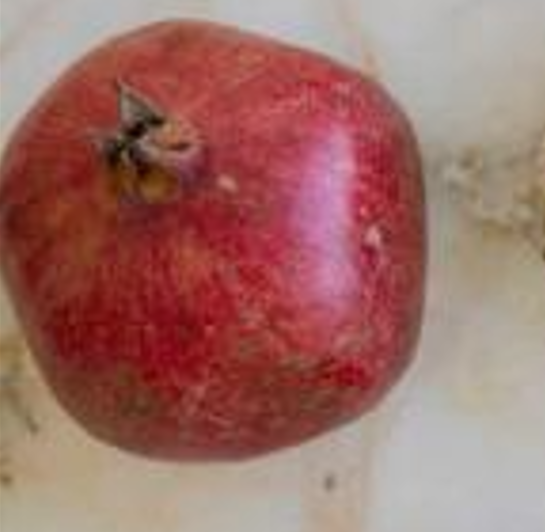pomegranate_A: (1, 19, 428, 463)
